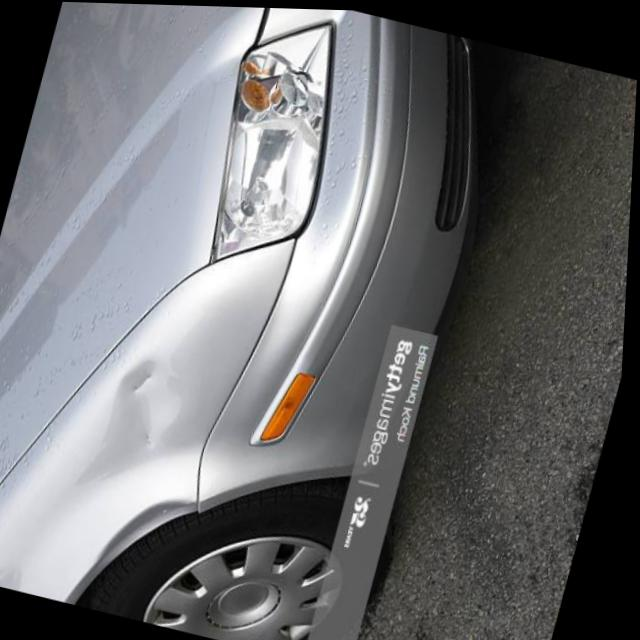Dent: (84, 343, 202, 486)
